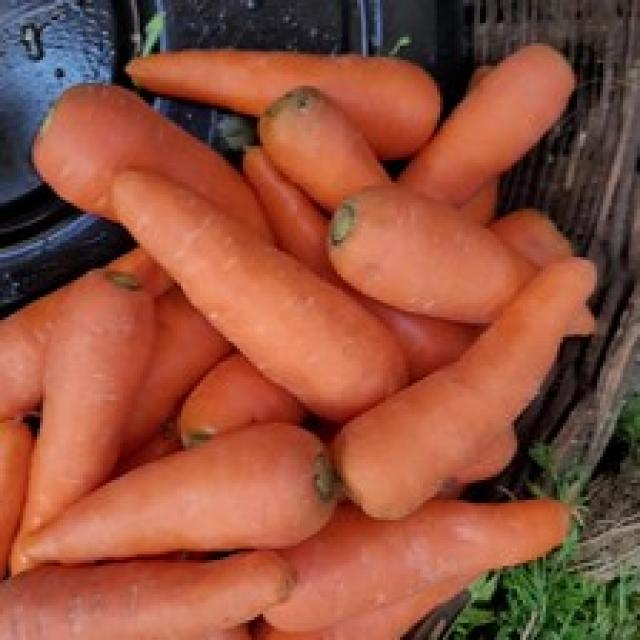Fresh_Carrot: (113, 182, 440, 412), (340, 259, 598, 516), (330, 169, 617, 339), (9, 434, 344, 561), (16, 267, 153, 568)
